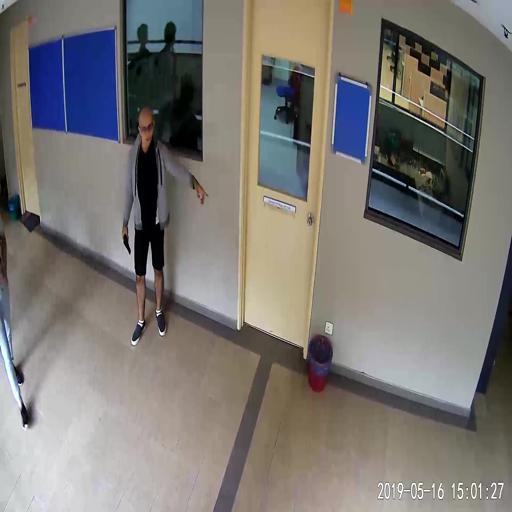pistol: (122, 232, 130, 255)
